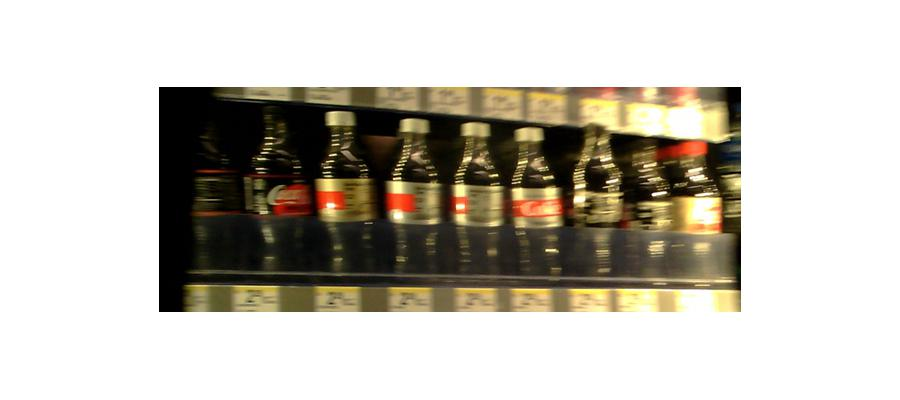bottle: (316, 105, 381, 279), (384, 111, 443, 280), (451, 120, 506, 285), (510, 121, 565, 285), (258, 118, 310, 273), (575, 126, 622, 285), (668, 140, 722, 276)
